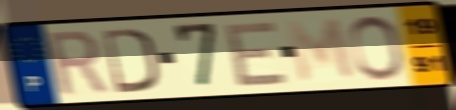7: (170, 22, 219, 92)
D: (100, 26, 160, 96)
E: (224, 18, 291, 89)
M: (284, 16, 359, 86)
O: (347, 13, 408, 82)
R: (43, 28, 112, 99)
